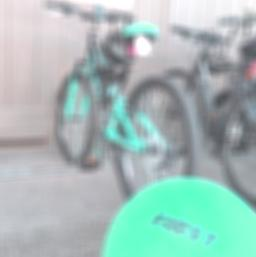algae: (100, 172, 256, 257)
